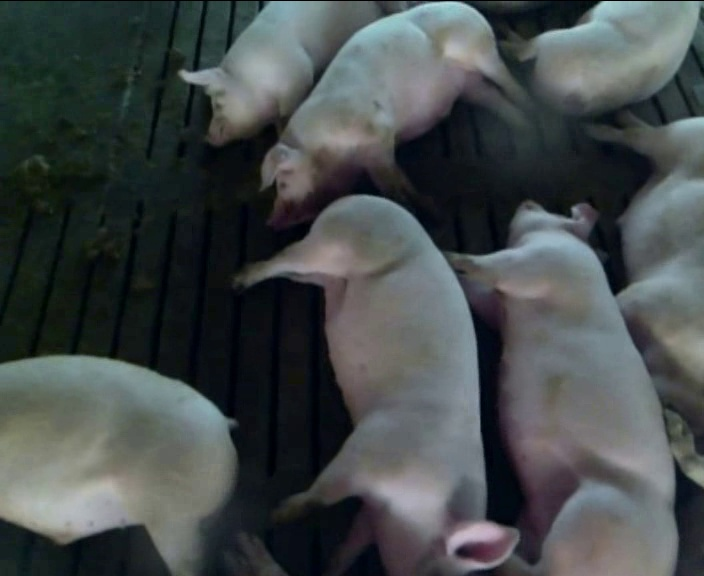pig: (234, 195, 520, 575), (448, 202, 676, 575), (262, 2, 529, 227), (587, 115, 703, 453), (179, 2, 382, 145), (497, 2, 698, 114)
